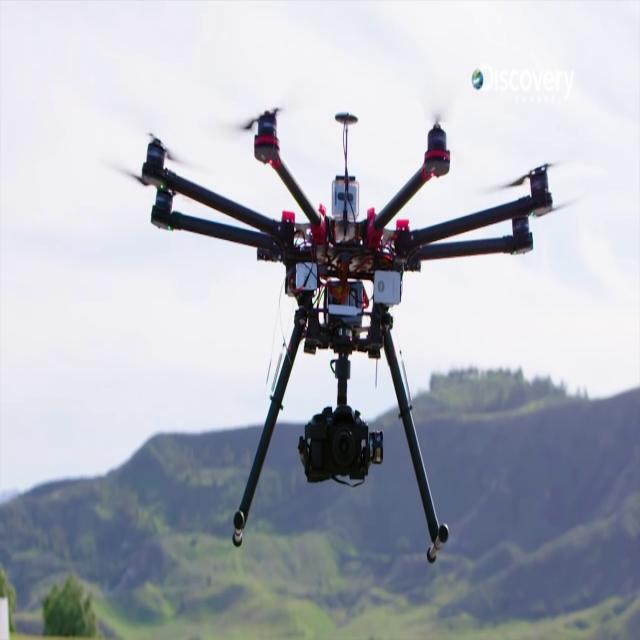drone: (113, 69, 550, 610)
